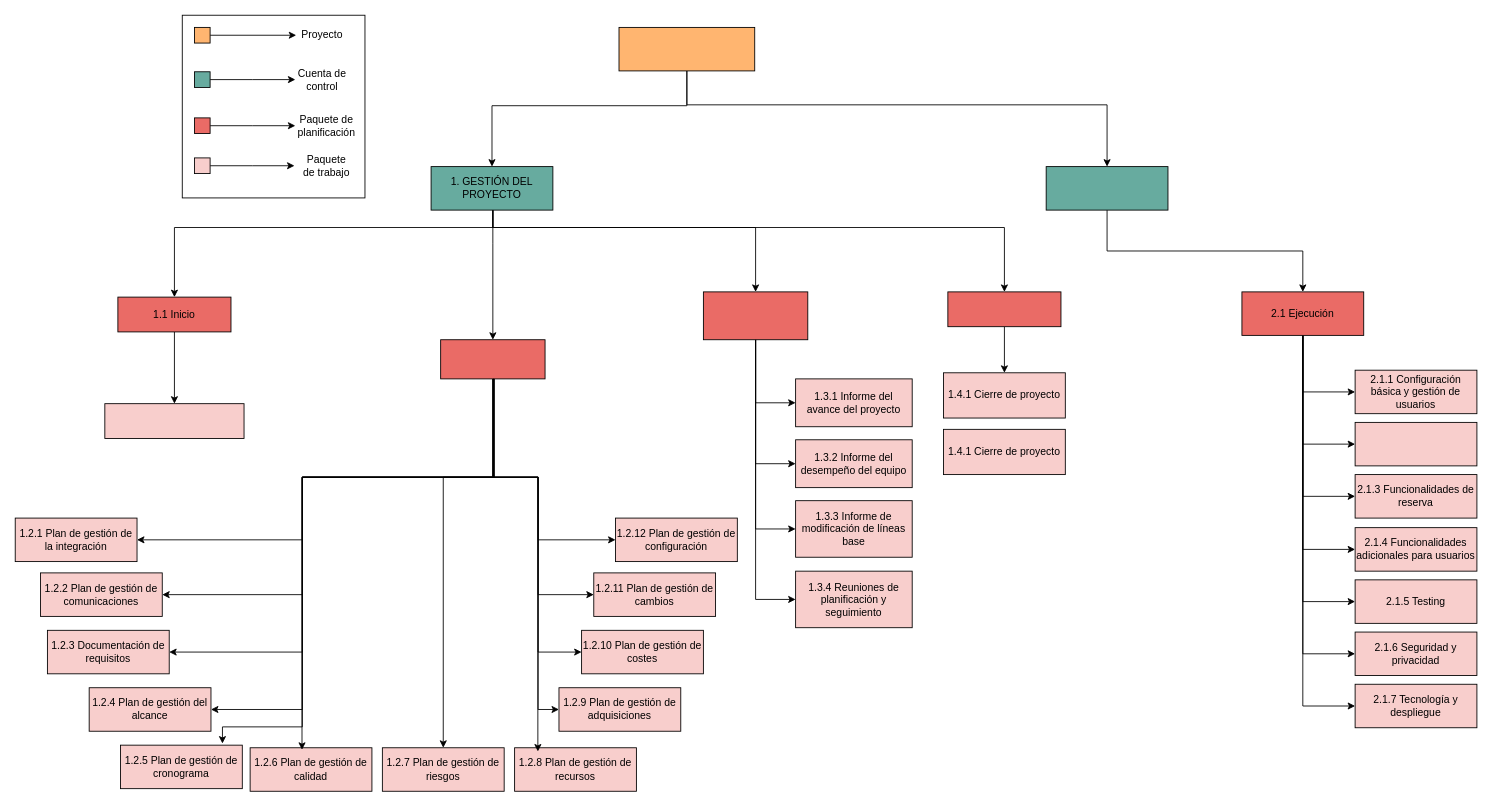
The diagram is 1493 pixels wide and 806 high, and some of its shapes have lost their labels. Here are the shapes that lost their labels. From the top down, the box of each, then its label:
(618, 27, 755, 71): ESCAPADAS A TU MEDIDA
(1045, 166, 1168, 210): 2. Desarrollo del producto
(703, 291, 808, 340): 1.3 Seguimiento y control
(947, 291, 1061, 327): 1.4 Cierre
(440, 339, 545, 379): 1.2 Planificación
(104, 403, 244, 438): 1.1.1 Constitución del proyecto
(1354, 422, 1477, 466): 2.1.2 Gestión de propiedades
